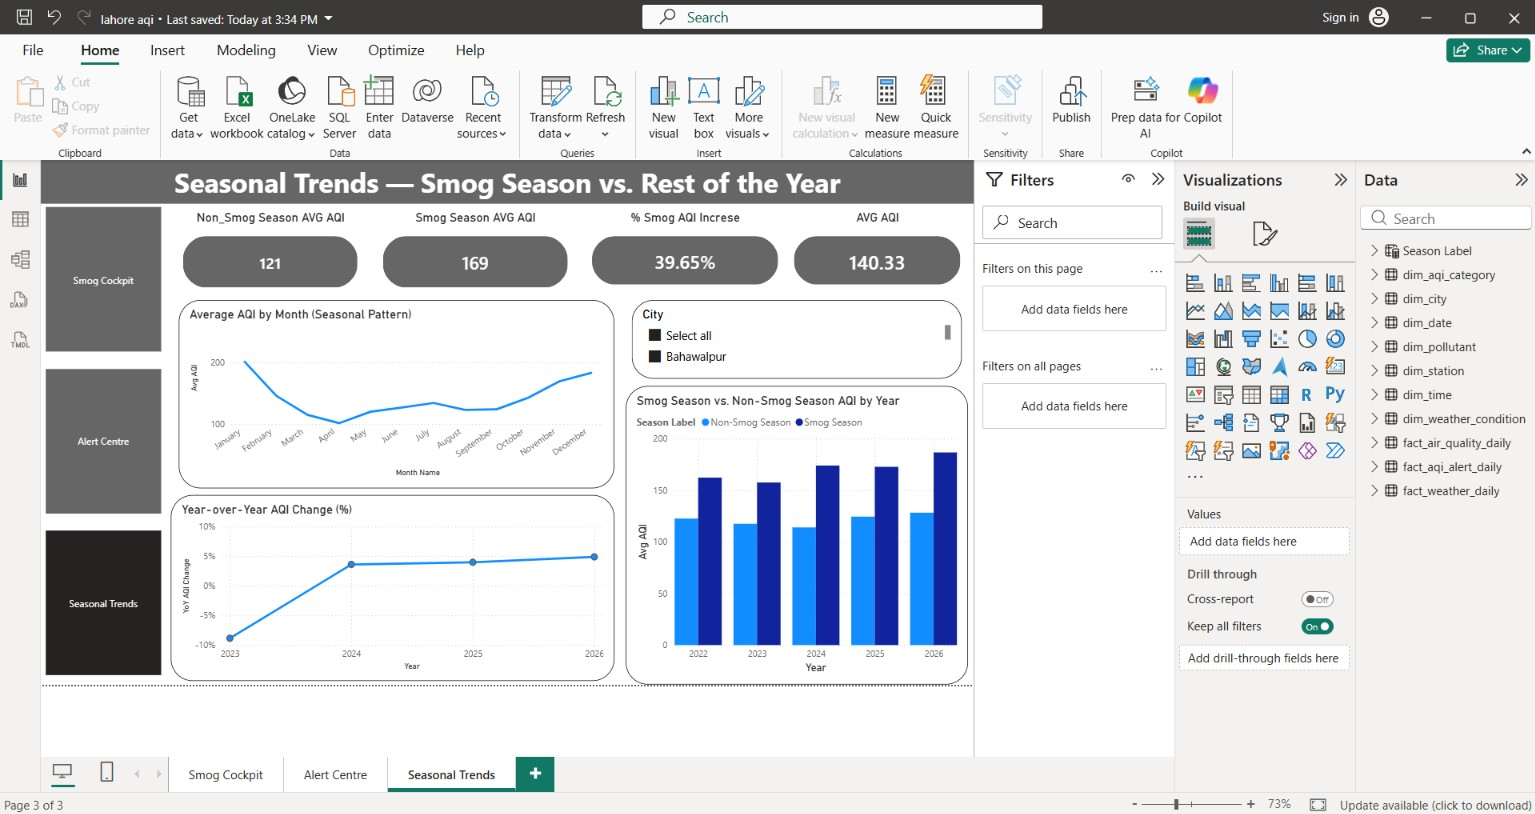

Layout of this report page (visuals, bound fields, positions):
{"tool":"powerbi","page":{"name":"Seasonal Trends","canvas":[1280,720],"ordinal":2},"visuals":[{"type":"pageNavigator","box":[0,57.5,172.4,657.9],"z":0},{"type":"lineChart","title":"Year-over-Year AQI Change (%)","fields":{"Y":["_Measures.YoY AQI Change"],"Category":["dim_date.Year"]},"box":[178.5,459.8,609,255.6],"z":1000},{"type":"slicer","title":"City","fields":{"Values":["dim_city.city"]},"box":[810.7,192,452.4,107.6],"z":2000},{"type":"cardVisual","title":"Non_Smog Season AVG AQI","fields":{"Data":["_Measures.Non-Smog Season Avg AQI"]},"box":[178.5,68.5,273.9,123.5],"z":3000},{"type":"cardVisual","title":"Smog Season AVG AQI","fields":{"Data":["_Measures.Smog Season Avg AQI"]},"box":[452.4,68.5,287.4,123.5],"z":4000},{"type":"lineChart","title":"Average AQI by Month (Seasonal Pattern)","fields":{"Y":["_Measures.Avg AQI"],"Category":["dim_date.Month Name"]},"box":[189.5,192,598,258],"z":5000},{"type":"cardVisual","title":"% Smog AQI Increse","fields":{"Data":["_Measures.Smog AQI Increase %"]},"box":[739.8,68.5,289.8,119.8],"z":6000},{"type":"cardVisual","title":"AVG AQI","fields":{"Data":["_Measures.Avg AQI"]},"box":[1017.4,68.5,262.9,119.8],"z":7000},{"type":"clusteredColumnChart","title":"Smog Season vs. Non-Smog Season AQI by Year","fields":{"Category":["dim_date.Year"],"Y":["_Measures.Avg AQI"],"Series":["dim_date.Season Label"]},"box":[802.2,310.6,469.6,409.6],"z":8000},{"type":"textbox","box":[0,0,1280.3,59.9],"z":9000}]}

Visuals, with their boxes on the page's 1280x720 design canvas (x1, y1, x2, y2). These are canvas units, not pixel positions in the 1535x814 screenshot, which may show the page scaled, cropped or inside an application window:
pageNavigator: [0,58,172,715]
"Year-over-Year AQI Change (%)" lineChart: [178,460,788,715]
"City" slicer: [811,192,1263,300]
"Non_Smog Season AVG AQI" cardVisual: [178,68,452,192]
"Smog Season AVG AQI" cardVisual: [452,68,740,192]
"Average AQI by Month (Seasonal Pattern)" lineChart: [190,192,788,450]
"% Smog AQI Increse" cardVisual: [740,68,1030,188]
"AVG AQI" cardVisual: [1017,68,1280,188]
"Smog Season vs. Non-Smog Season AQI by Year" clusteredColumnChart: [802,311,1272,720]
textbox: [0,0,1280,60]
